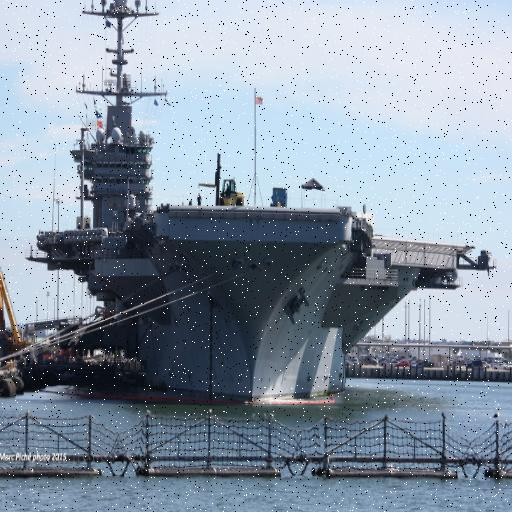Portanaves: (28, 1, 501, 411)
